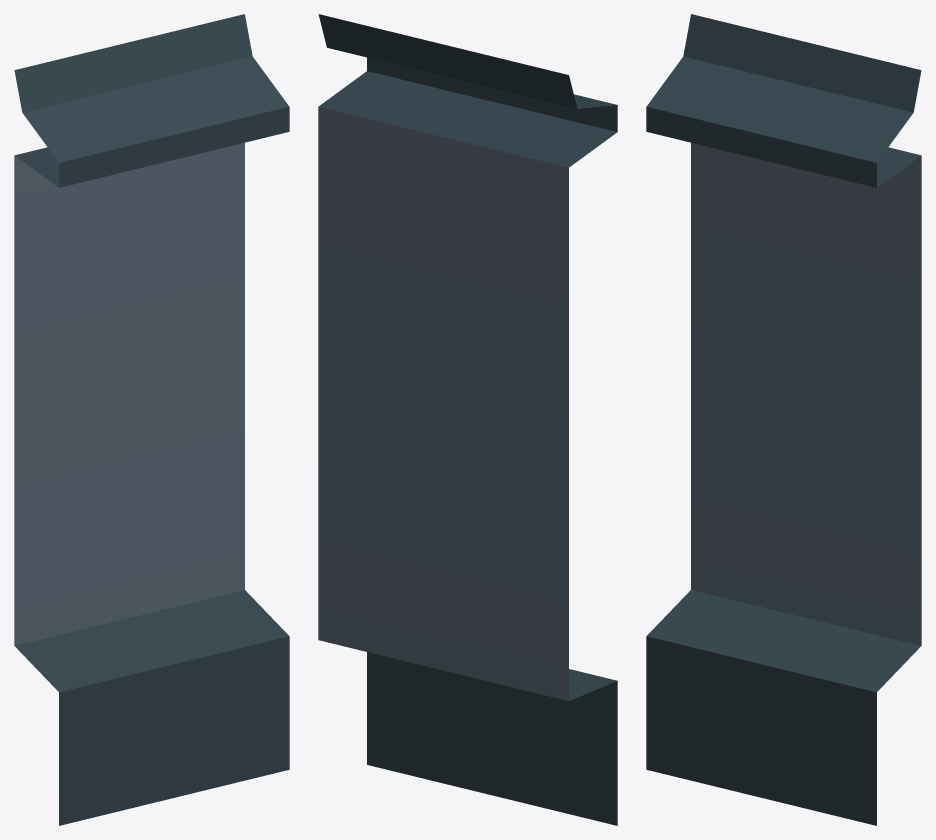
The model's file is Wall_plain_half_A.fbx.
3 renders of one model, left to right at view 1: azimuth 30°, elevation 25°; view 2: azimuth 150°, elevation 25°; view 3: azimuth 330°, elevation 25°, orthographic. The views are drawn at different scales.
Parts seen in each view (by area): view 1: Wall_plain_half_A; view 2: Wall_plain_half_A; view 3: Wall_plain_half_A.
Part boxes in pixels (<box>): Wall_plain_half_A: <box>14,14,289,825</box>; Wall_plain_half_A: <box>318,14,617,825</box>; Wall_plain_half_A: <box>646,14,921,825</box>.
Size of the model in its own units: 100 by 300 by 33.54.
